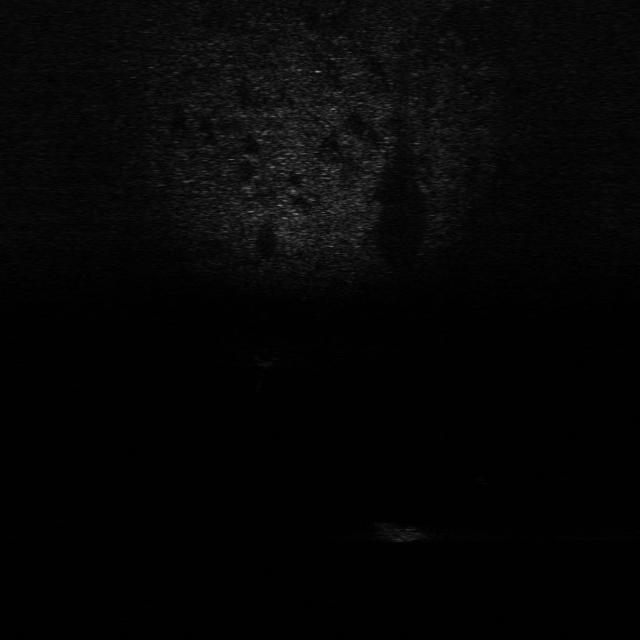ball: (248, 347, 281, 369)
metal bucket: (372, 516, 432, 544)
